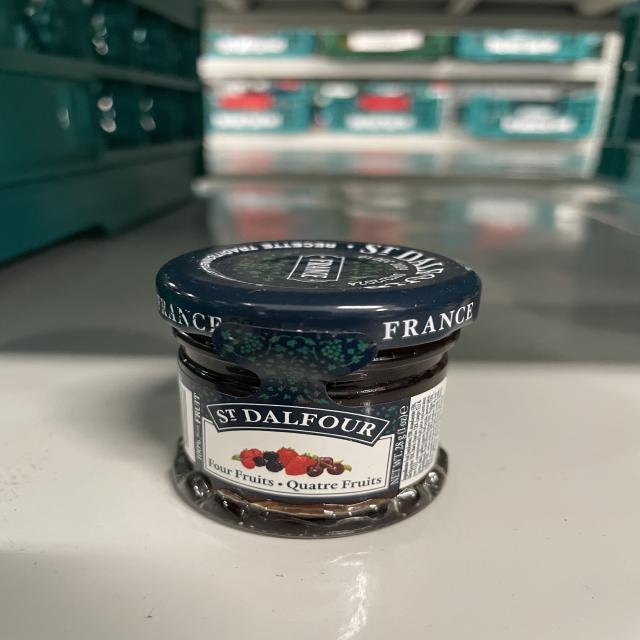object_name: (156, 245, 476, 532)
